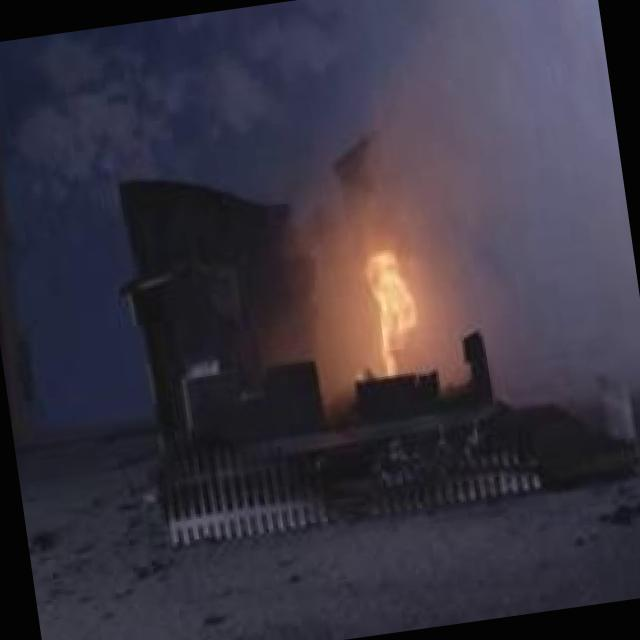fire: (328, 212, 449, 382)
smoke: (272, 0, 623, 251)
